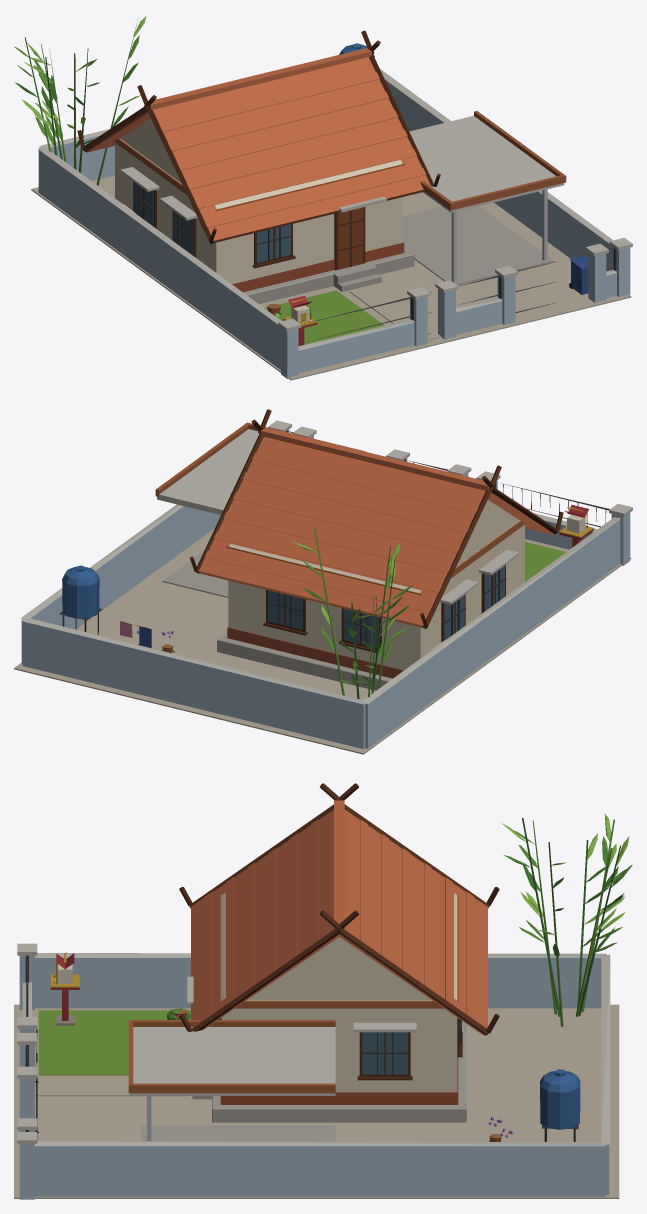
Rendered from house12_1.glb.
3 renders of one model, top to bottom at view 1: azimuth 30°, elevation 25°; view 2: azimuth 150°, elevation 25°; view 3: azimuth 270°, elevation 25°, orthographic. The views are drawn at different scales.
Parts seen in each view (by area): view 1: body, windows; view 2: body, windows; view 3: body, windows.
Part boxes in pixels (x1=…): body: x1=14, y1=16, x2=632, y2=380; windows: x1=134, y1=182, x2=290, y2=262; body: x1=14, y1=409, x2=632, y2=754; windows: x1=268, y1=565, x2=504, y2=647; body: x1=14, y1=783, x2=632, y2=1199; windows: x1=362, y1=1019, x2=459, y2=1074.
Size of the model in its own units: 12.94 by 6.69 by 16.26.
